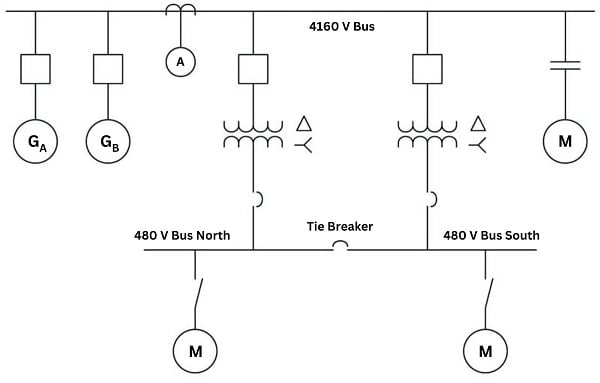circuit_breaker: (239, 182, 274, 219), (414, 184, 444, 215), (315, 236, 361, 256)
switch: (469, 261, 513, 319), (185, 260, 215, 316)
transformer: (386, 111, 465, 165), (207, 112, 291, 158)
